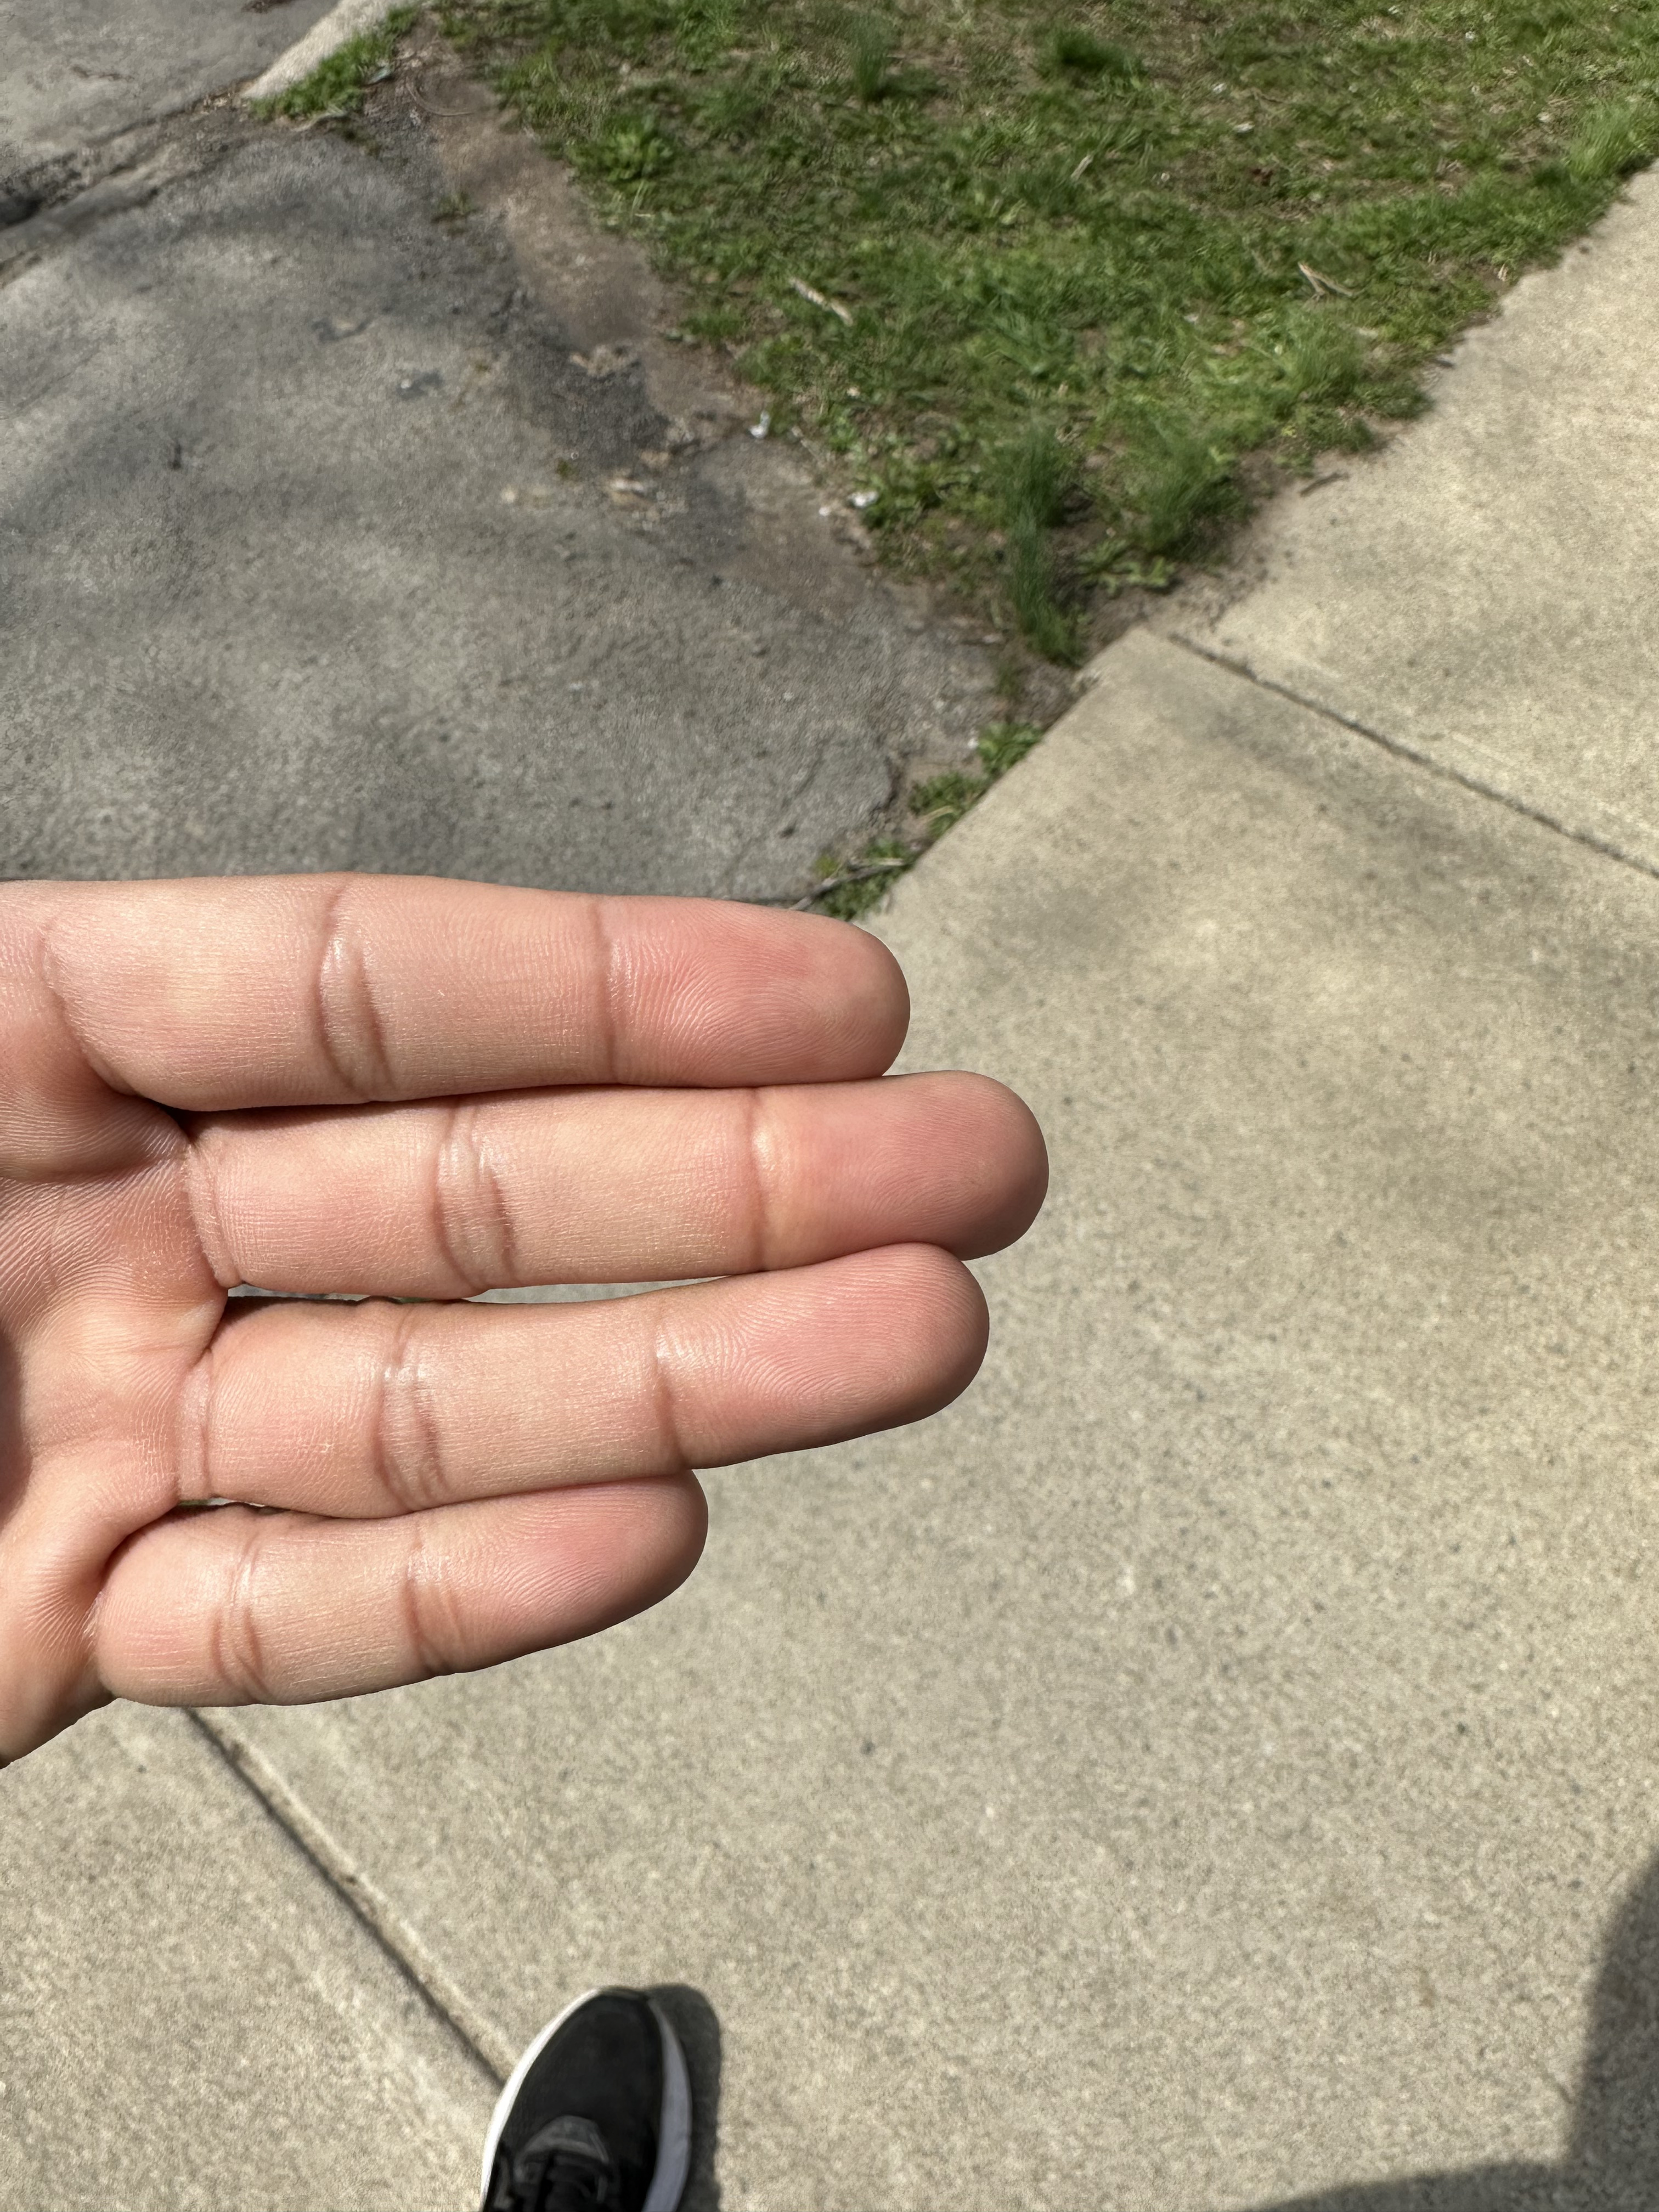finger: (591, 857, 934, 1073), (640, 1249, 1026, 1440), (742, 1071, 1084, 1259), (408, 1470, 734, 1660)
